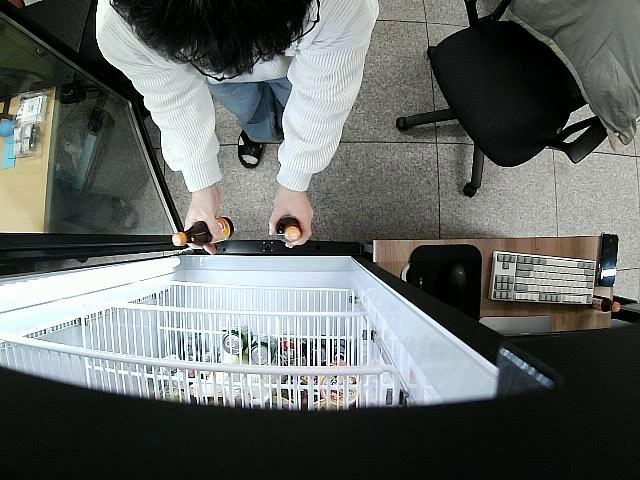17_vita500: (172, 216, 234, 248), (274, 216, 302, 244)
